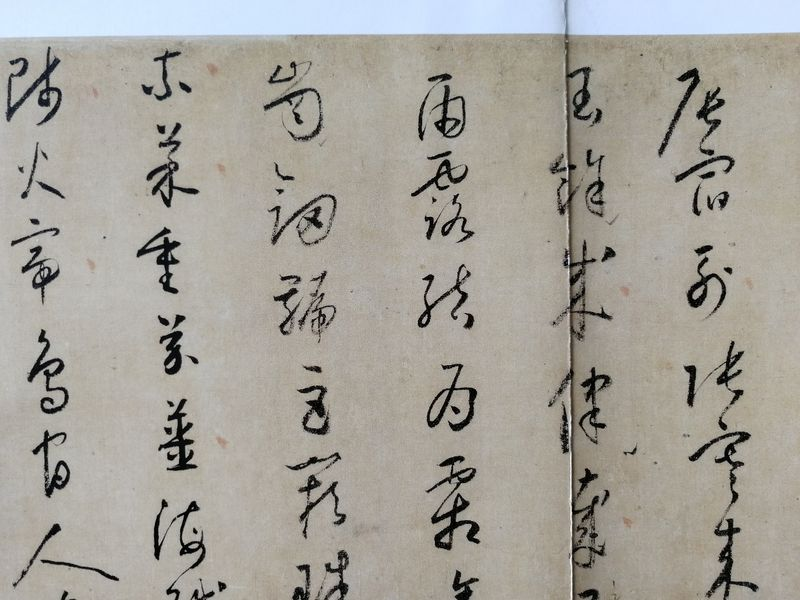zi: (16, 525, 122, 587), (557, 242, 616, 338), (413, 154, 475, 244), (267, 168, 334, 250), (427, 455, 480, 554), (661, 68, 726, 146), (551, 372, 611, 456), (691, 421, 752, 501), (263, 60, 324, 140), (4, 47, 65, 125), (568, 470, 614, 571), (148, 494, 211, 565), (704, 520, 761, 597), (15, 216, 64, 305), (687, 342, 750, 410), (148, 120, 196, 205), (271, 273, 333, 336), (416, 71, 468, 143), (294, 458, 349, 526), (425, 363, 479, 432), (26, 330, 69, 415), (554, 150, 609, 215), (419, 266, 476, 328), (675, 155, 734, 214), (14, 139, 65, 205), (689, 244, 733, 318), (135, 226, 182, 295), (157, 401, 199, 472), (289, 557, 357, 600), (142, 46, 193, 103), (33, 429, 71, 497), (154, 319, 197, 379), (297, 369, 334, 438), (568, 68, 606, 125), (447, 568, 479, 600)
